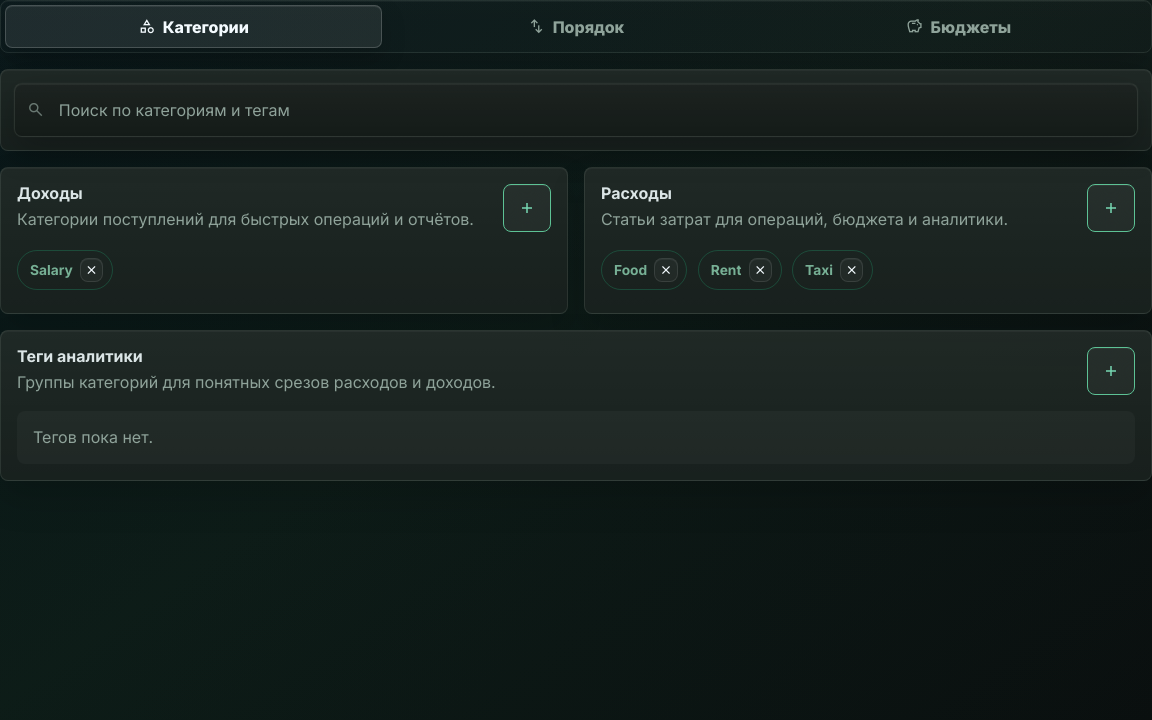
CategoriesTabComponent › renders a draggable category reorder table and passes the final dropped order through to the page
This screenshot has width=1152, height=720.
Click the tab with test id "category-subtab-order" at (576, 27), box [388,5,764,48]
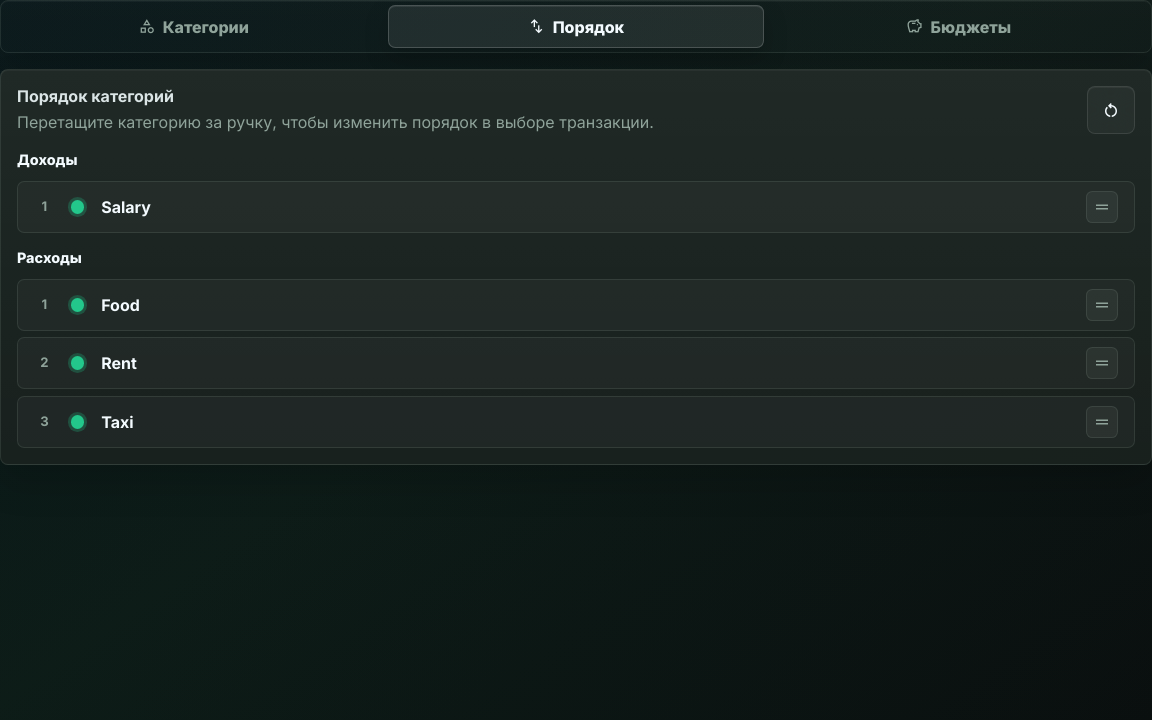
Result: the table with class "category-order-table" showing "1 Salary" is shown at [17,181,1135,232]
